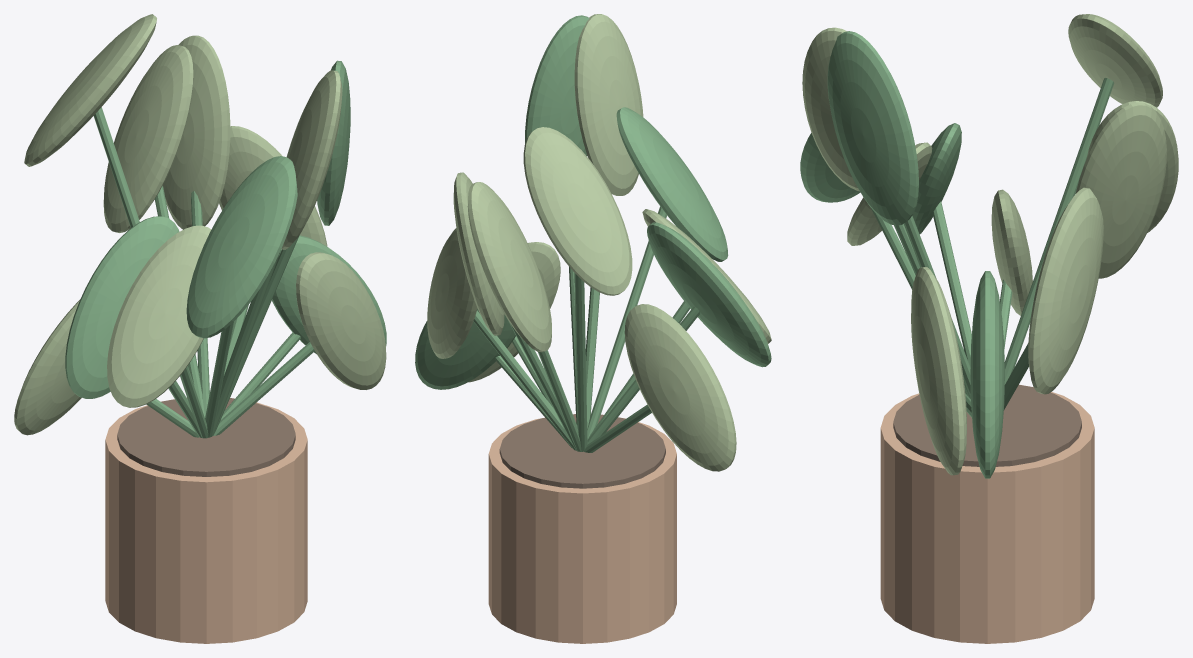
3 renders of one model, left to right at view 1: azimuth 30°, elevation 25°; view 2: azimuth 150°, elevation 25°; view 3: azimuth 270°, elevation 25°, orthographic. The views are drawn at different scales.
Parts seen in each view (by area): view 1: terracotta_pot_1, plant_leaf_16, plant_leaf_6, plant_leaf_8, cylinder_2, plant_leaf_20, plant_leaf_22, plant_leaf_24, plant_leaf_18, plant_leaf_26, plant_leaf_12, plant_leaf_14 (+12 smaller); view 2: terracotta_pot_1, plant_leaf_18, plant_leaf_12, plant_leaf_26, cylinder_2, plant_leaf_8, plant_leaf_22, plant_leaf_16, plant_leaf_10, plant_leaf_14, plant_leaf_4, plant_leaf_24 (+11 smaller); view 3: terracotta_pot_1, plant_leaf_10, plant_leaf_14, plant_leaf_24, plant_leaf_20, cylinder_2, plant_leaf_4, plant_leaf_18, plant_leaf_26, plant_leaf_12, rod_17, plant_leaf_22 (+7 smaller).
Boxes of the visible parts, x1,y1,x2,y2 form: terracotta_pot_1: (105,399,307,643); plant_leaf_16: (186,156,297,338); plant_leaf_6: (107,225,211,407); plant_leaf_8: (103,45,193,232); cylinder_2: (117,398,295,476); plant_leaf_20: (296,252,386,389); plant_leaf_22: (65,216,179,398); plant_leaf_24: (163,35,230,229); plant_leaf_18: (24,14,156,166); plant_leaf_26: (281,70,342,249); plant_leaf_12: (14,299,81,435); plant_leaf_14: (219,126,327,246); terracotta_pot_1: (488,417,676,643); plant_leaf_18: (523,127,632,295); plant_leaf_12: (624,304,736,471); plant_leaf_26: (574,14,643,195); cylinder_2: (499,414,665,488); plant_leaf_8: (467,182,551,352); plant_leaf_22: (647,222,771,367); plant_leaf_16: (616,107,728,261); plant_leaf_10: (525,15,589,155); plant_leaf_14: (427,228,477,358); plant_leaf_4: (415,309,515,389); plant_leaf_24: (453,172,504,335); terracotta_pot_1: (880,385,1094,643); plant_leaf_10: (827,31,918,225); plant_leaf_14: (1028,187,1103,394); plant_leaf_24: (1075,102,1166,278); plant_leaf_20: (911,267,966,475); cylinder_2: (893,384,1081,466); plant_leaf_4: (970,271,1004,478); plant_leaf_18: (1068,14,1162,107); plant_leaf_26: (802,27,859,191); plant_leaf_12: (991,189,1032,315); rod_17: (1004,78,1114,384); plant_leaf_22: (912,123,961,234).
Size of the model in its own units: 0.8652 by 1.32 by 0.7517.
